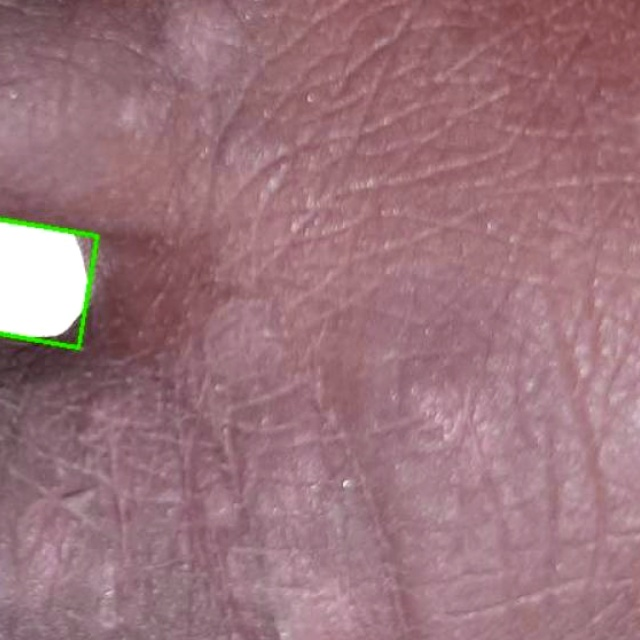Eczema: (0, 220, 97, 348)
